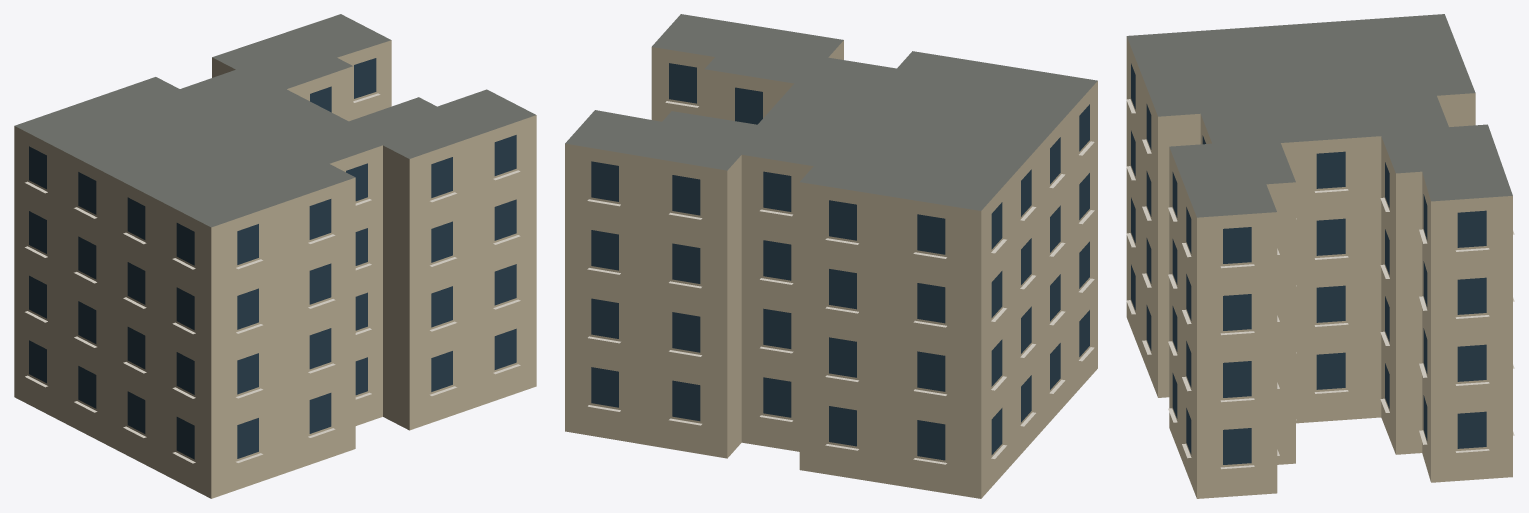
The picture shows the model from 3 angles, left to right: view 1: azimuth 30°, elevation 25°; view 2: azimuth 150°, elevation 25°; view 3: azimuth 270°, elevation 25°; orthographic projection. The views are drawn at different scales.
Visible parts, largest first — view 1: Footprint 0, Inferred window bays, Window sills; view 2: Footprint 0, Inferred window bays, Window sills; view 3: Footprint 0, Inferred window bays, Window sills.
Part boxes in pixels (x1,y1,x2,y2): Footprint 0: [14, 14, 536, 498]; Inferred window bays: [29, 58, 516, 459]; Window sills: [25, 93, 520, 463]; Footprint 0: [565, 14, 1097, 498]; Inferred window bays: [591, 63, 1089, 460]; Window sills: [587, 101, 1094, 464]; Footprint 0: [1126, 14, 1512, 498]; Inferred window bays: [1131, 63, 1486, 464]; Window sills: [1126, 99, 1514, 469].
Bounding box in the file's own units: 20.58 × 13.17 × 16.47.
